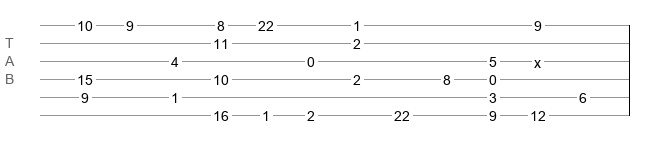0: (307, 54, 315, 64), (489, 72, 497, 82)
1: (171, 90, 179, 100), (262, 108, 270, 118), (353, 18, 361, 28)
10: (77, 18, 93, 28), (213, 72, 229, 82)
11: (213, 36, 229, 46)
12: (530, 108, 546, 118)
15: (77, 72, 93, 82)
16: (213, 108, 229, 118)
2: (307, 108, 315, 118), (353, 36, 361, 46), (353, 72, 361, 82)
22: (258, 18, 274, 28), (394, 108, 410, 118)
3: (489, 90, 497, 100)
4: (171, 54, 179, 64)
5: (489, 54, 497, 64)
6: (579, 90, 587, 100)
8: (217, 18, 225, 28), (443, 72, 451, 82)
9: (81, 90, 89, 100), (126, 18, 134, 28), (489, 108, 497, 118), (534, 18, 542, 28)
x: (534, 55, 541, 63)
